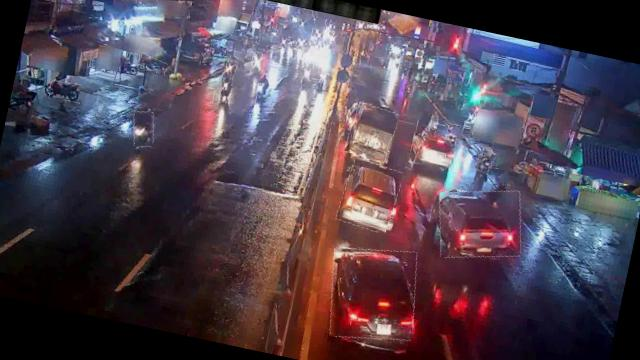Bike: (129, 109, 158, 149), (49, 78, 87, 104), (212, 75, 232, 106), (138, 54, 169, 74), (475, 148, 496, 174), (255, 77, 274, 104), (223, 55, 240, 81), (445, 122, 460, 146), (250, 52, 264, 76), (429, 111, 442, 133)
Car: (321, 238, 426, 348), (431, 180, 530, 269), (336, 157, 404, 233), (409, 120, 459, 170)
Truck: (344, 102, 400, 164)
